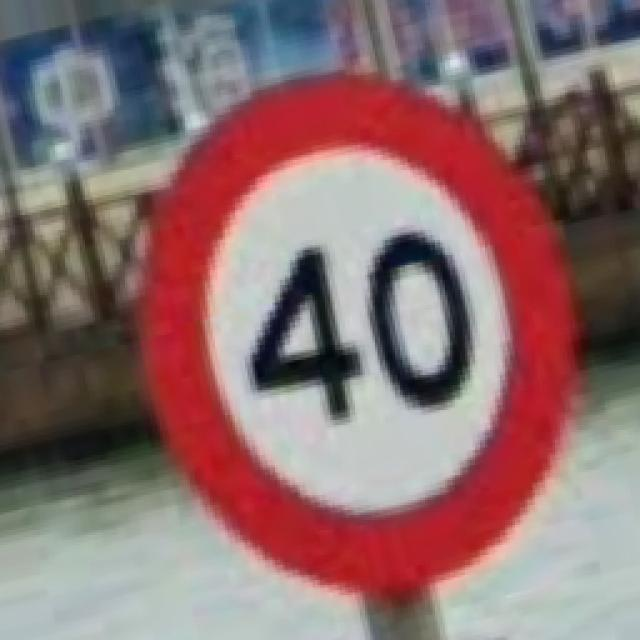Speed Limit -40-: (138, 72, 572, 594)
